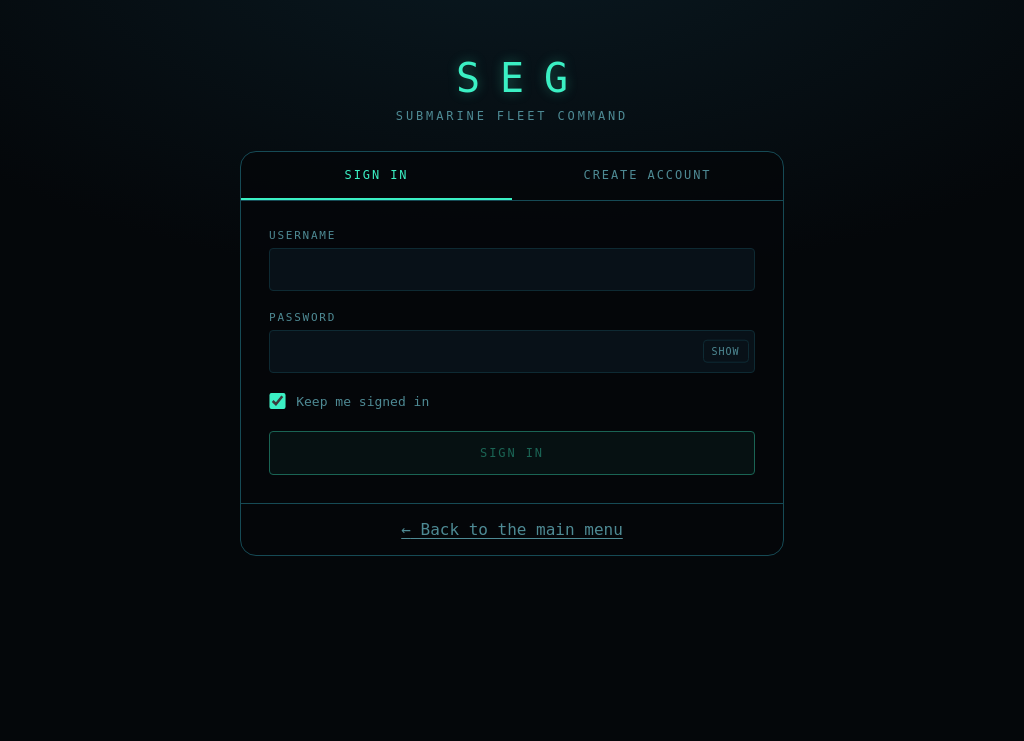
Test case: sign-up form › requires the no-recovery acknowledgement
The image size is (1024, 741).
Click the tab "CREATE ACCOUNT" at (648, 176), box [512,152,783,200]
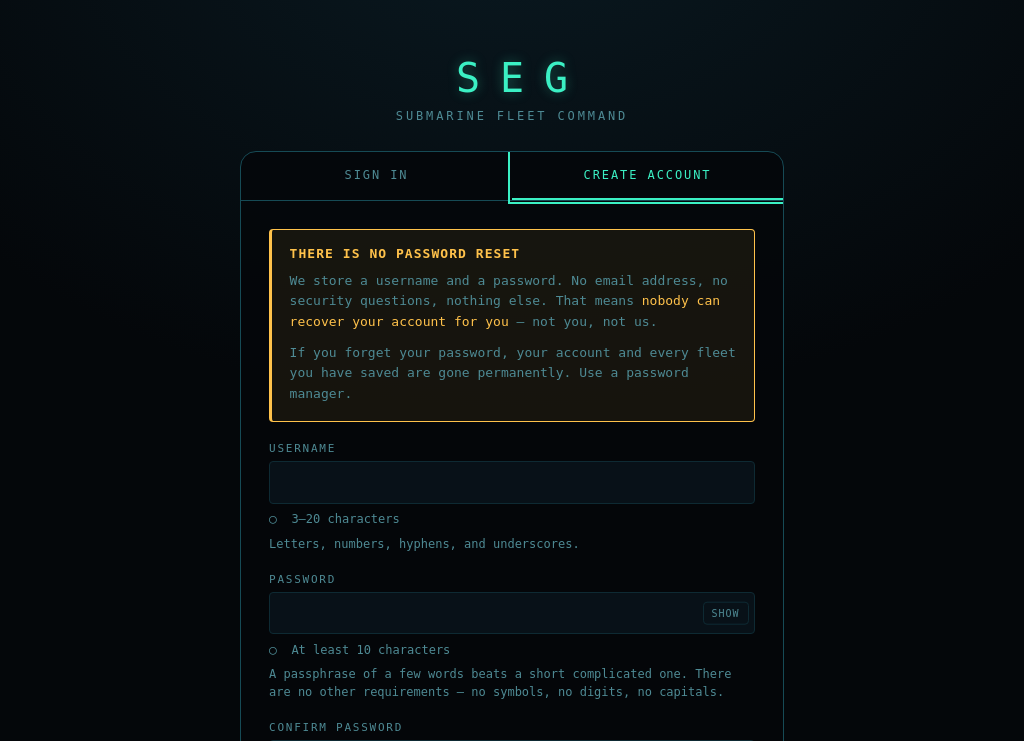
Result: the heading "There is no password reset" is shown at [290,246,520,261]
Type "Skipper" into the field labelled "Username" at (512, 483), box [269,461,755,504]
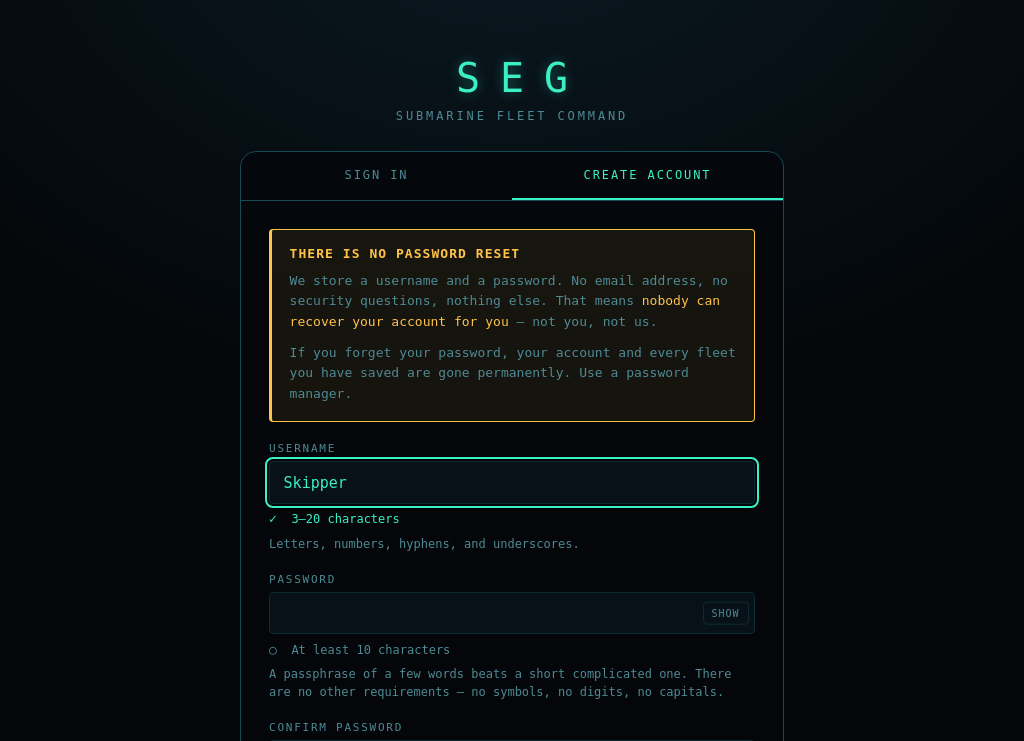
Type "correct horse battery staple" into the password field labelled "Password" at (512, 613), box [269,592,755,634]
(page scrolled)
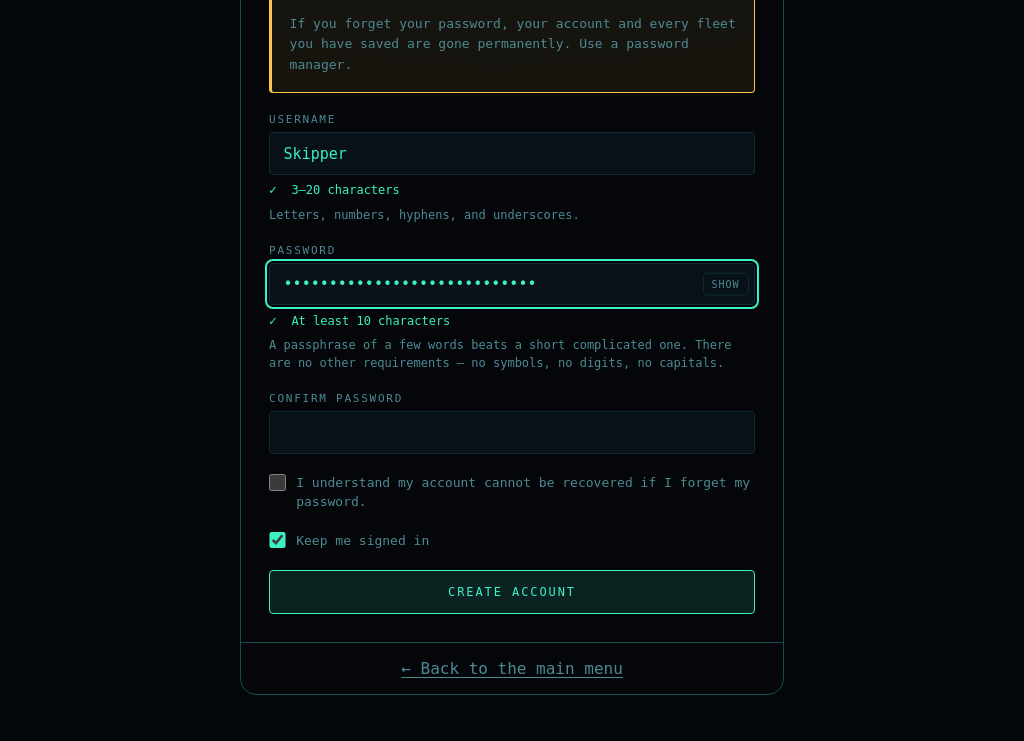
Type "correct horse battery staple" into the password field labelled "Confirm password" at (512, 433), box [269,412,755,454]
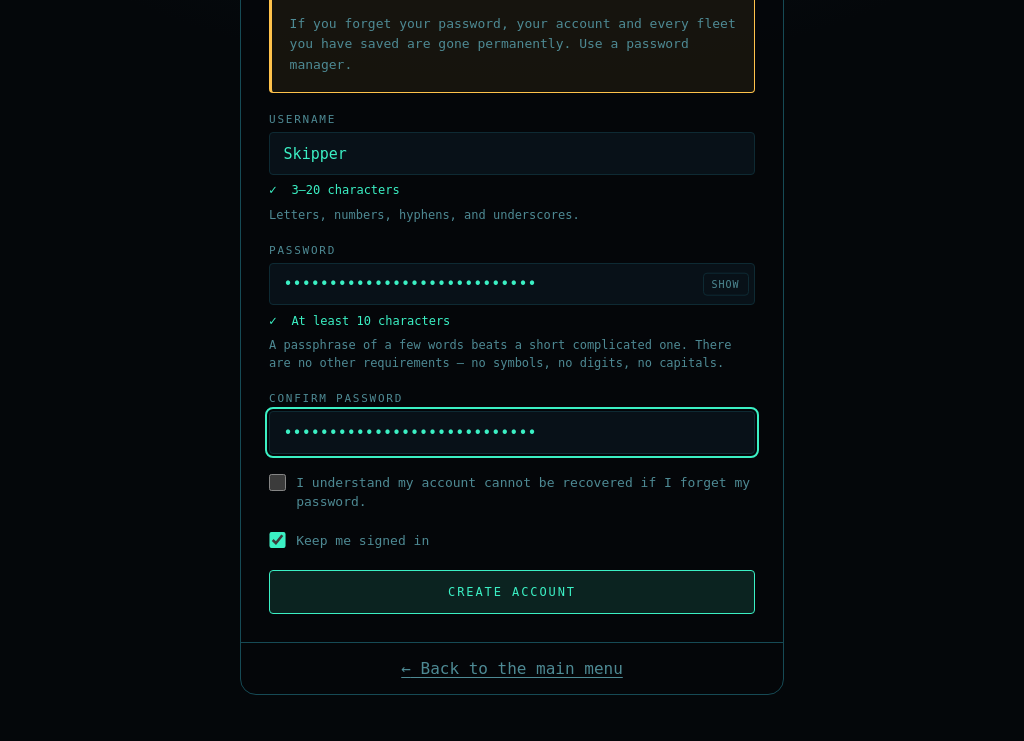
Click the button "CREATE ACCOUNT" at (512, 592), box [269,570,755,614]
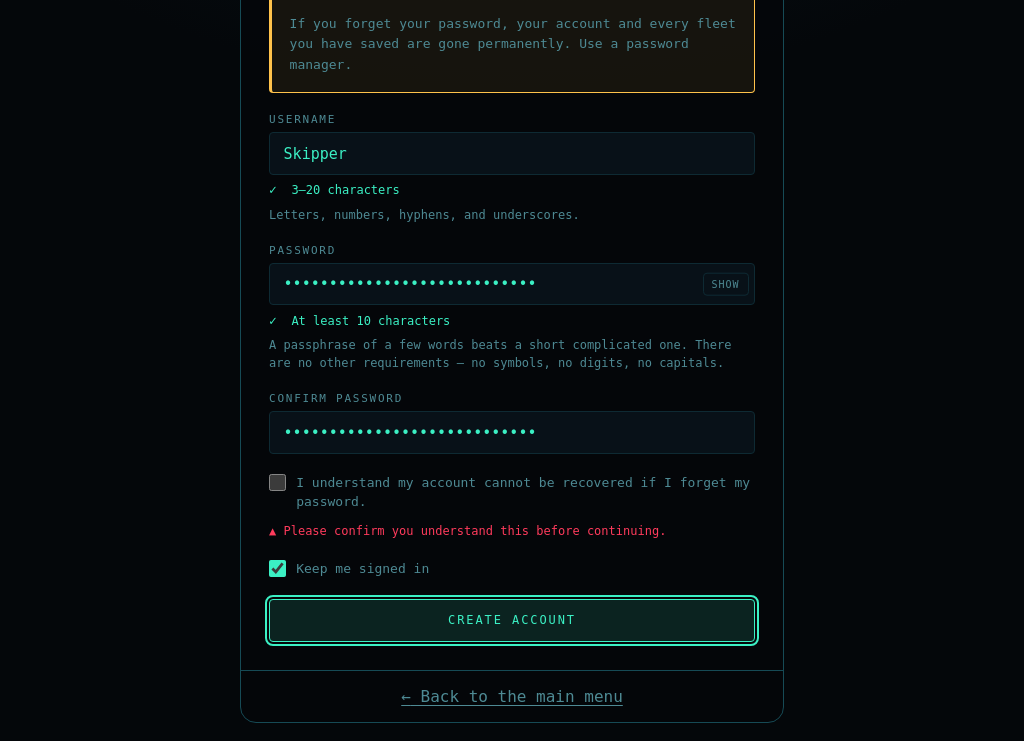
Result: the text "Please confirm you understand this before continuing." is shown at [284,524,666,538]
